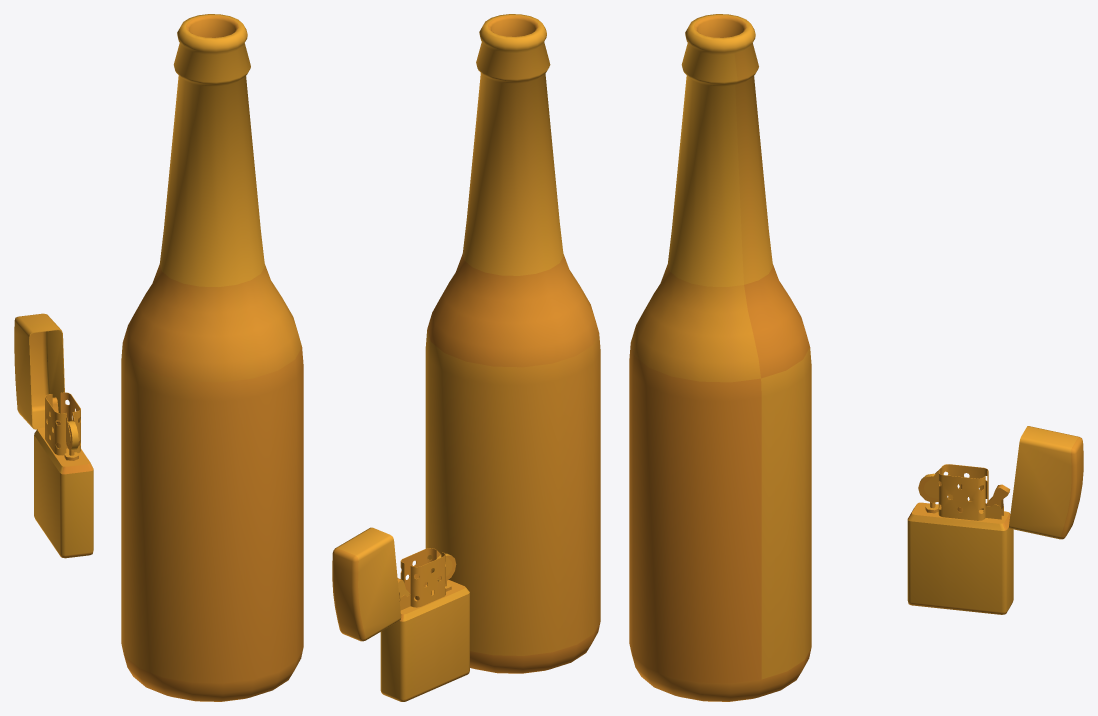
Rendered from molotov.glb.
3 views of the same model, side by side, from view 1: azimuth 30°, elevation 25°; view 2: azimuth 150°, elevation 25°; view 3: azimuth 270°, elevation 25° (orthographic). The views are drawn at different scales.
Visible parts, largest first — view 1: LOD0_Template, Magazine2, Magazine3; view 2: LOD0_Template, Magazine2, Magazine3; view 3: LOD0_Template, Magazine2, Magazine3.
Part boxes in pixels (left/top/right/bottom): LOD0_Template: left=121, top=14, right=303, bottom=701; Magazine2: left=34, top=392, right=93, bottom=558; Magazine3: left=14, top=313, right=65, bottom=429; LOD0_Template: left=425, top=14, right=600, bottom=673; Magazine2: left=380, top=548, right=469, bottom=701; Magazine3: left=332, top=527, right=401, bottom=641; LOD0_Template: left=629, top=14, right=811, bottom=701; Magazine2: left=907, top=464, right=1013, bottom=614; Magazine3: left=1009, top=426, right=1083, bottom=539.
Size of the model in its own units: 0.0829 by 0.3252 by 0.2077.
Materials: 1 (1 with a texture image).
